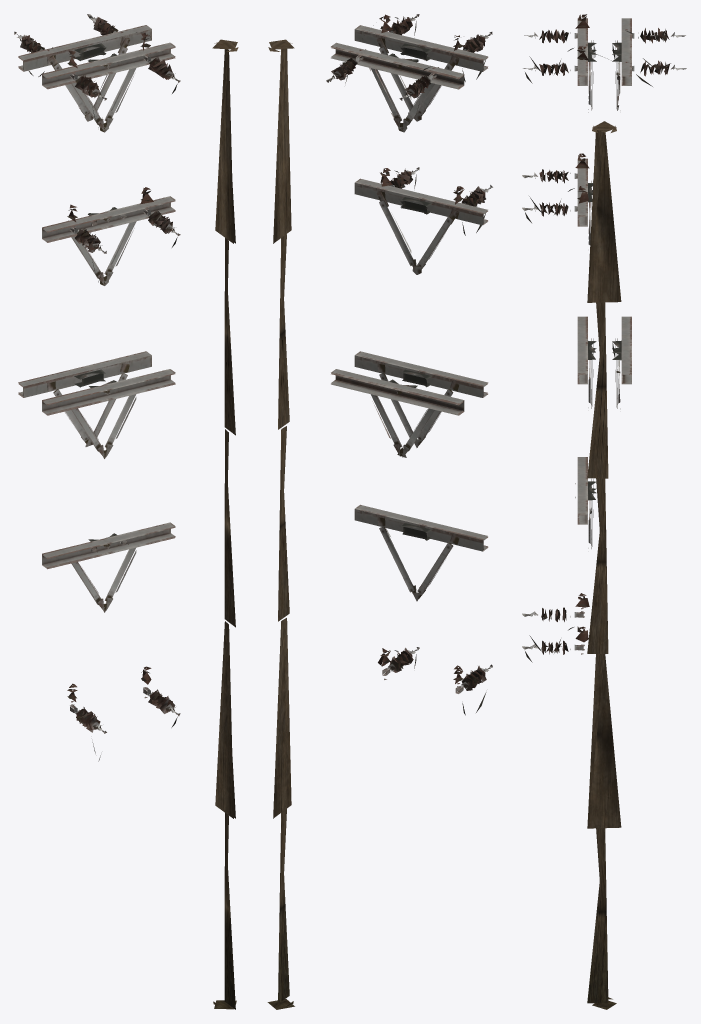
The model's file is ph_power_pole_07.fbx.
3 views of the same model, side by side, from view 1: azimuth 30°, elevation 25°; view 2: azimuth 150°, elevation 25°; view 3: azimuth 270°, elevation 25° (orthographic). The views are drawn at different scales.
Visible parts, largest first — view 1: ph_power_pole_07_LOD0; view 2: ph_power_pole_07_LOD0; view 3: ph_power_pole_07_LOD0.
Boxes of the visible parts, <box> form: ph_power_pole_07_LOD0: <box>14,14,238,1009</box>; ph_power_pole_07_LOD0: <box>267,14,492,1009</box>; ph_power_pole_07_LOD0: <box>522,14,686,1009</box>.
Size of what is drawn, in the model's own units: 1.12 by 5.22 by 0.8523.
